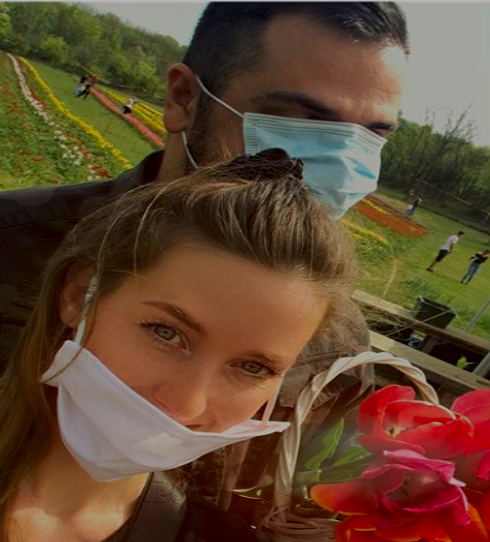mask_weared_incorrect: (47, 190, 331, 482), (163, 2, 418, 224)
